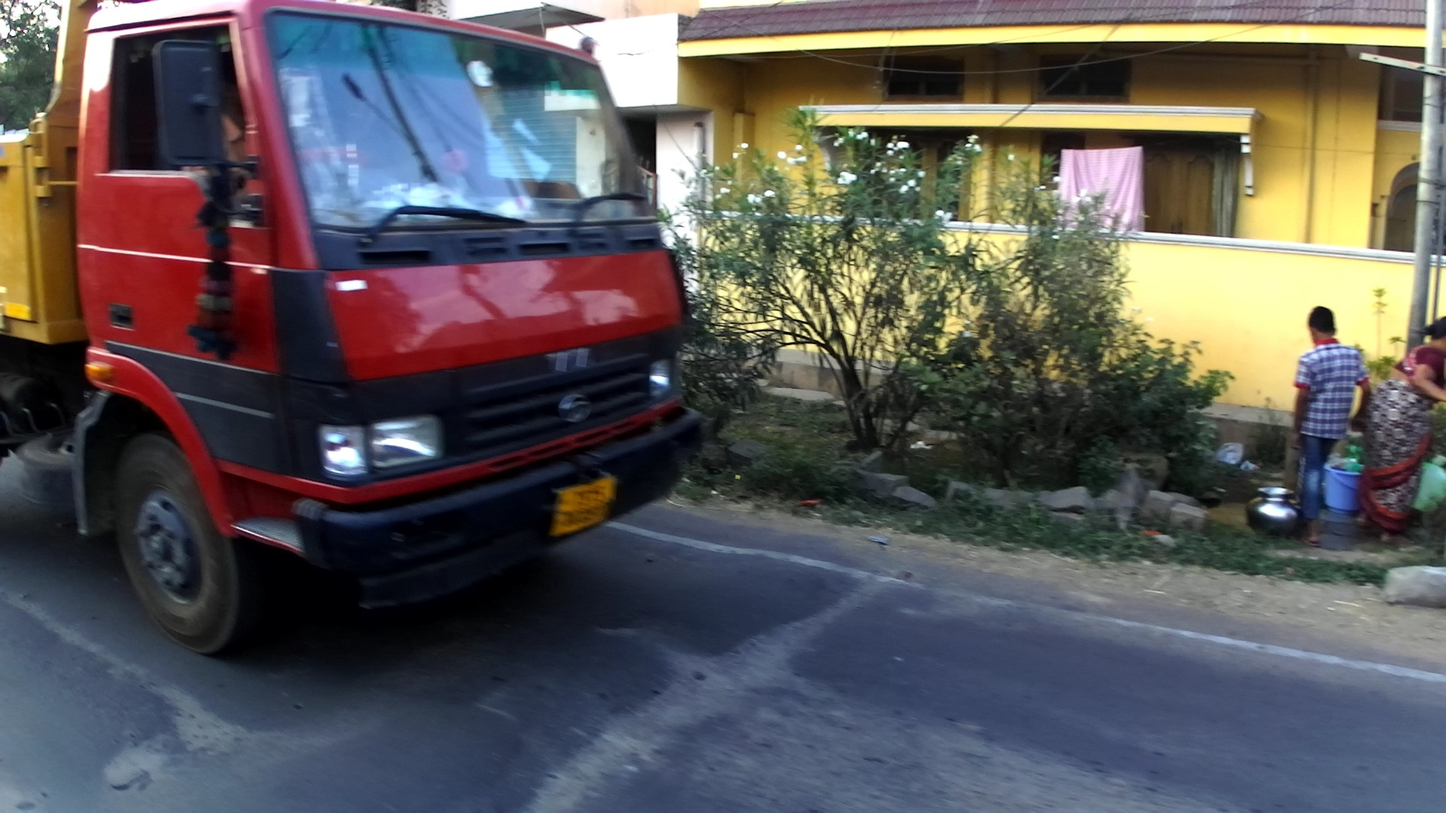person: (1285, 302, 1375, 551), (1362, 323, 1446, 548)
truck: (1, 1, 709, 673)
